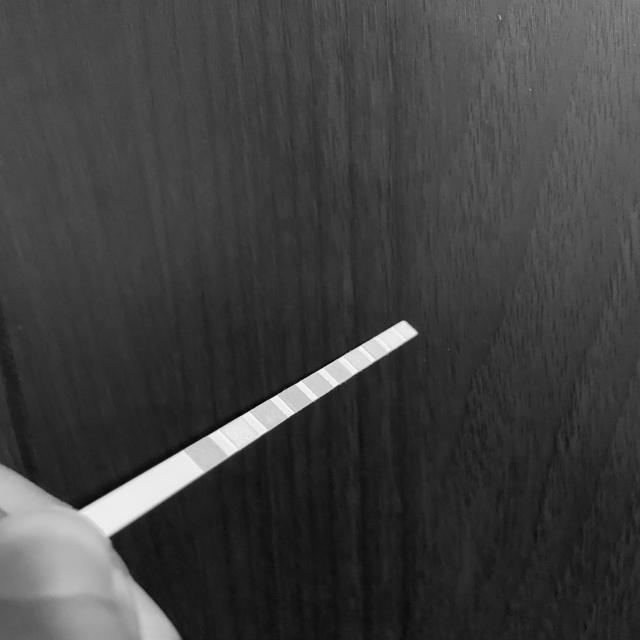Bilirubin: (228, 426, 250, 439)
Blood: (310, 377, 324, 388)
Glucose: (197, 444, 215, 462)
Ketone: (258, 408, 276, 420)
Leukocytes: (402, 327, 410, 334)
Nitrite: (386, 334, 396, 342)
Protein: (354, 356, 362, 364)
SpGravity: (286, 392, 303, 401)
Urobilinogen: (371, 345, 379, 353)
background: (0, 0, 640, 640)
pH: (332, 368, 343, 376)
strip: (85, 321, 419, 534)
